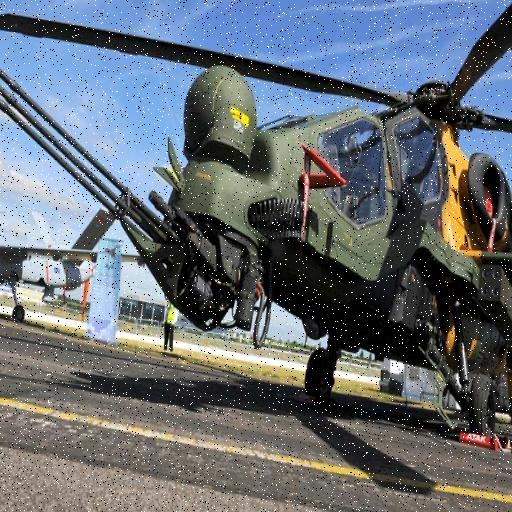helicopter: (1, 1, 512, 447)
